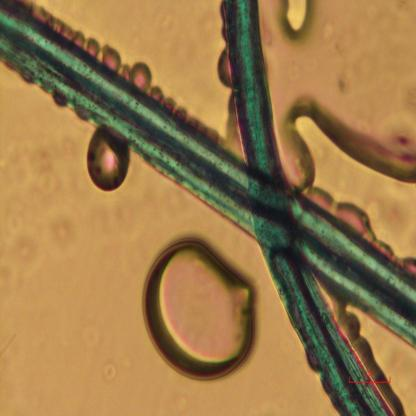Air bubble: (138, 235, 257, 383), (284, 86, 416, 219), (87, 128, 130, 192), (280, 0, 314, 44), (132, 59, 152, 90), (102, 43, 121, 71)
Background material: (29, 130, 69, 205), (5, 196, 39, 264), (49, 221, 81, 251), (97, 360, 119, 380), (386, 134, 413, 150), (332, 76, 354, 90)
Microfibre: (0, 1, 416, 342), (224, 1, 394, 415)
